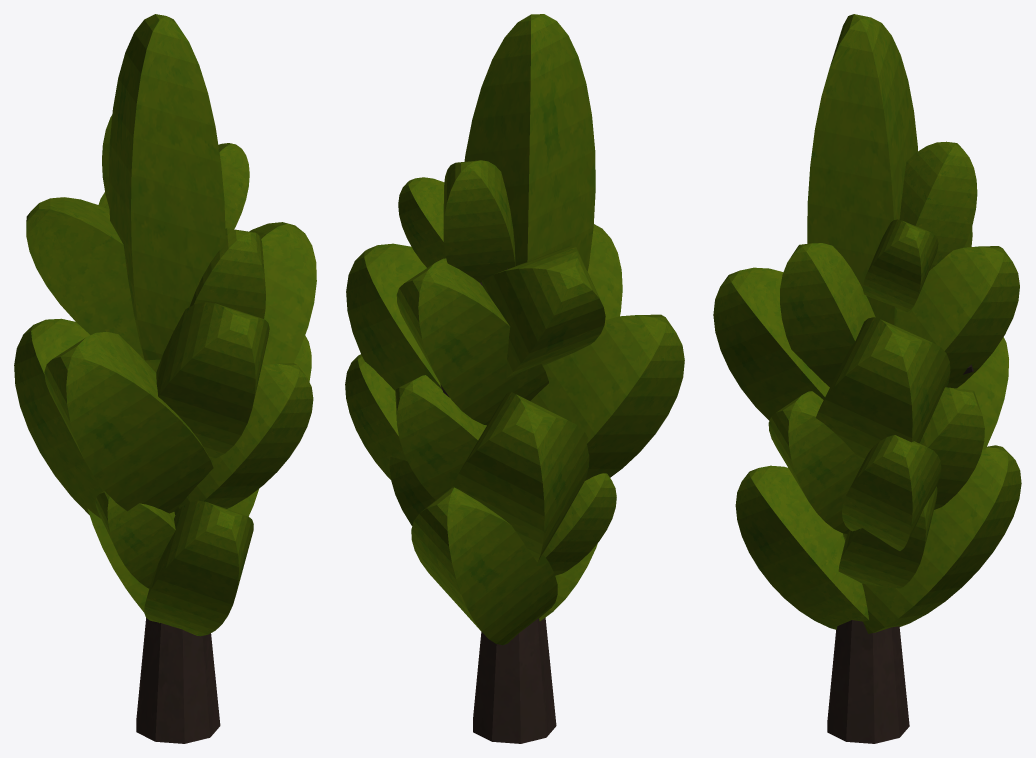
Rendered from tree-lime-green-flowers_8.fbx.
3 views of the same model, side by side, from view 1: azimuth 30°, elevation 25°; view 2: azimuth 150°, elevation 25°; view 3: azimuth 270°, elevation 25° (orthographic). The views are drawn at different scales.
Visible parts, largest first — view 1: Sphere.000; view 2: Sphere.000; view 3: Sphere.000.
Part boxes in pixels (x1=…): Sphere.000: x1=14, y1=14, x2=316, y2=743; Sphere.000: x1=345, y1=14, x2=684, y2=743; Sphere.000: x1=713, y1=14, x2=1021, y2=743.
Size of the model in its own units: 178 by 424 by 169.
